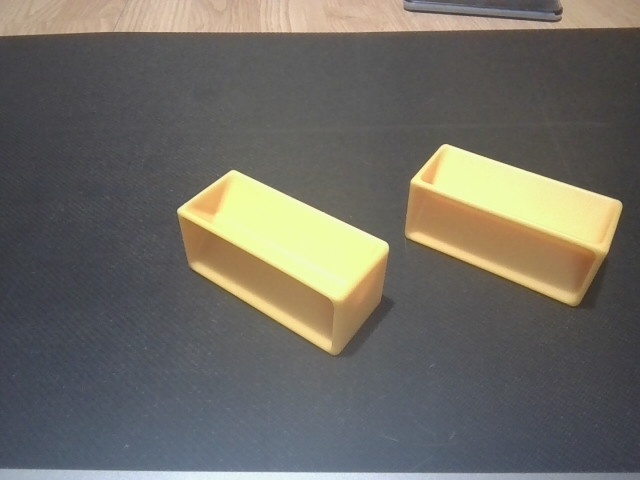YellowSample: (170, 164, 396, 362), (401, 140, 627, 313)
